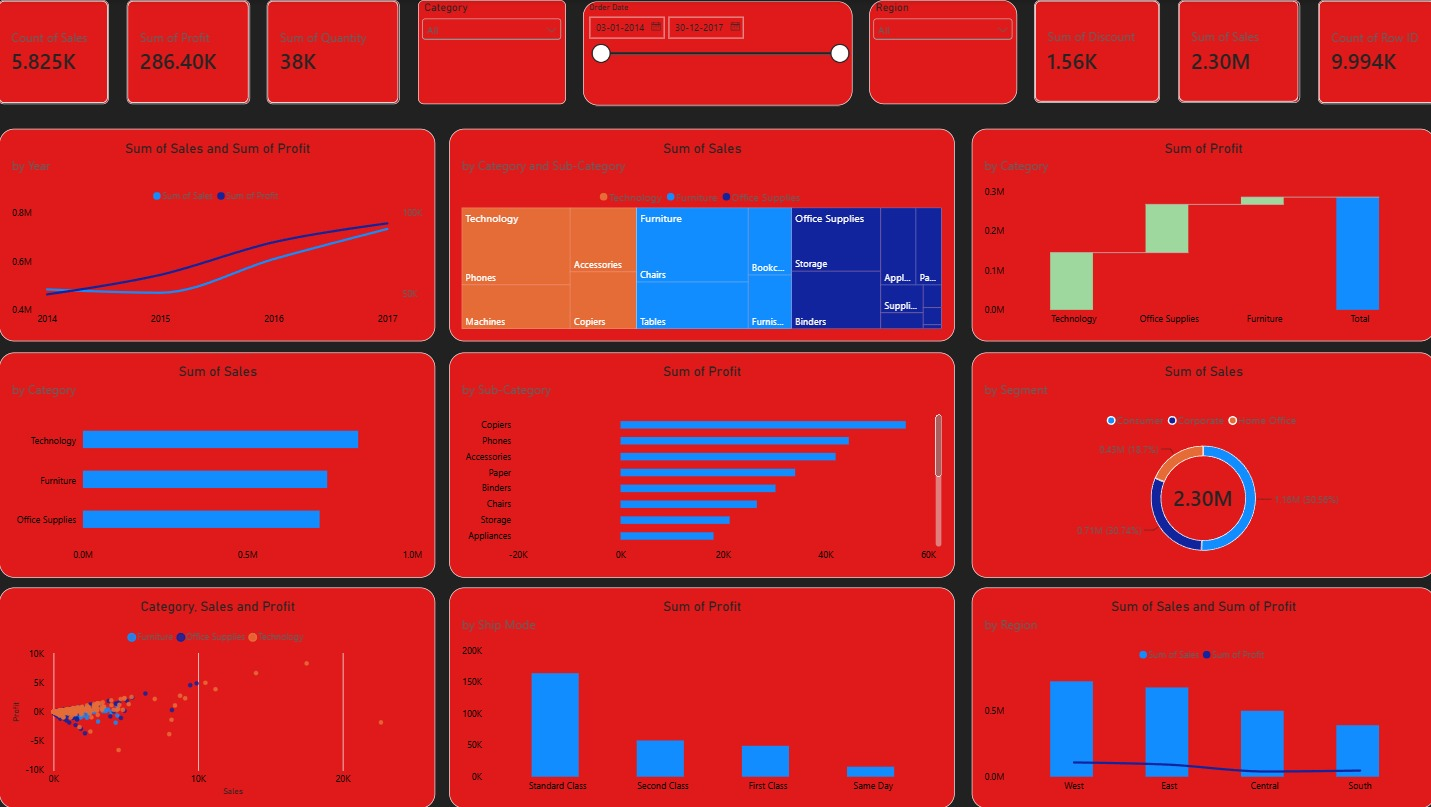

The page's visual inventory and layout, read from the dashboard file:
{"tool":"powerbi","page":{"name":"Page 1","canvas":[1920,1080],"ordinal":0},"visuals":[{"type":"cardVisual","fields":{"Data":["Count(Cleaned_Superstore.Sales)"]},"box":[0,0,148.4,139.3],"z":0},{"type":"cardVisual","fields":{"Data":["Sum(Cleaned_Superstore.Profit)"]},"box":[171.7,0,164.7,139.3],"z":1000},{"type":"cardVisual","fields":{"Data":["Sum(Cleaned_Superstore.Quantity)"]},"box":[359.7,0,177.3,139.3],"z":2000},{"type":"cardVisual","fields":{"Data":["Sum(Cleaned_Superstore.Discount)"]},"box":[1384.8,0,168.3,137.5],"z":3000},{"type":"cardVisual","fields":{"Data":["Sum(Cleaned_Superstore.Sales)"]},"box":[1576.4,0,162.9,137.5],"z":4000},{"type":"cardVisual","fields":{"Data":["Count(Cleaned_Superstore.Row ID)"]},"box":[1762.6,0,157.4,139.3],"z":5000},{"type":"slicer","fields":{"Values":["Cleaned_Superstore.Category"]},"box":[560.3,0,197.3,139.3],"z":6000},{"type":"slicer","fields":{"Values":["Cleaned_Superstore.Region"]},"box":[1164.3,0,197.3,139.3],"z":7000},{"type":"slicer","fields":{"Values":["Cleaned_Superstore.Order Date"]},"box":[780.9,1.8,360.1,139.3],"z":8000},{"type":"lineChart","fields":{"Category":["Cleaned_Superstore.Order Date.Variation.Date Hierarchy.Year"],"Y":["Sum(Cleaned_Superstore.Sales)"],"Y2":["Sum(Cleaned_Superstore.Profit)"]},"box":[1.8,171.9,582.7,284.1],"z":9000},{"type":"treemap","fields":{"Details":["Cleaned_Superstore.Sub-Category"],"Group":["Cleaned_Superstore.Category"],"Values":["Sum(Cleaned_Superstore.Sales)"]},"box":[602.6,171.9,675,284.1],"z":10000},{"type":"waterfallChart","fields":{"Category":["Cleaned_Superstore.Category"],"Y":["Sum(Cleaned_Superstore.Profit)"]},"box":[1301.1,171.9,618.9,284.1],"z":11000},{"type":"clusteredBarChart","fields":{"Category":["Cleaned_Superstore.Category"],"Y":["Sum(Cleaned_Superstore.Sales)"]},"box":[1.8,470.5,582.7,300.4],"z":12000},{"type":"clusteredBarChart","fields":{"Category":["Cleaned_Superstore.Sub-Category"],"Y":["Sum(Cleaned_Superstore.Profit)"]},"box":[602.6,470.5,675,300.4],"z":13000},{"type":"donutChart","fields":{"Category":["Cleaned_Superstore.Segment"],"Y":["Sum(Cleaned_Superstore.Sales)"]},"box":[1301.1,470.5,618.9,300.4],"z":14000},{"type":"scatterChart","fields":{"Series":["Cleaned_Superstore.Category"],"X":["Cleaned_Superstore.Sales"],"Y":["Cleaned_Superstore.Profit"]},"box":[1.8,785.4,582.7,295],"z":15000},{"type":"clusteredColumnChart","fields":{"Category":["Cleaned_Superstore.Ship Mode"],"Y":["Sum(Cleaned_Superstore.Profit)"]},"box":[602.6,785.4,675,295],"z":15001},{"type":"lineClusteredColumnComboChart","fields":{"Category":["Cleaned_Superstore.Region"],"Y":["Sum(Cleaned_Superstore.Sales)"],"Y2":["Sum(Cleaned_Superstore.Profit)"]},"box":[1301.1,785.4,618.9,295],"z":15002}]}

Visuals, with their boxes in screenshot pixels (x1, y1, x2, y2), scaled from the page's 1920x1080 canvas onto the 1431x807 screenshot:
cardVisual - Count(Cleaned_Superstore.Sales): x1=0 y1=0 x2=111 y2=104
cardVisual - Sum(Cleaned_Superstore.Profit): x1=128 y1=0 x2=251 y2=104
cardVisual - Sum(Cleaned_Superstore.Quantity): x1=268 y1=0 x2=400 y2=104
cardVisual - Sum(Cleaned_Superstore.Discount): x1=1032 y1=0 x2=1158 y2=103
cardVisual - Sum(Cleaned_Superstore.Sales): x1=1175 y1=0 x2=1296 y2=103
cardVisual - Count(Cleaned_Superstore.Row ID): x1=1314 y1=0 x2=1430 y2=104
slicer - Cleaned_Superstore.Category: x1=418 y1=0 x2=565 y2=104
slicer - Cleaned_Superstore.Region: x1=868 y1=0 x2=1015 y2=104
slicer - Cleaned_Superstore.Order Date: x1=582 y1=1 x2=850 y2=105
lineChart - Cleaned_Superstore.Order Date.Variation.Date Hierarchy.Year x Sum(Cleaned_Superstore.Sales): x1=1 y1=128 x2=436 y2=341
treemap - Cleaned_Superstore.Sub-Category x Cleaned_Superstore.Category: x1=449 y1=128 x2=952 y2=341
waterfallChart - Cleaned_Superstore.Category x Sum(Cleaned_Superstore.Profit): x1=970 y1=128 x2=1430 y2=341
clusteredBarChart - Cleaned_Superstore.Category x Sum(Cleaned_Superstore.Sales): x1=1 y1=352 x2=436 y2=576
clusteredBarChart - Cleaned_Superstore.Sub-Category x Sum(Cleaned_Superstore.Profit): x1=449 y1=352 x2=952 y2=576
donutChart - Cleaned_Superstore.Segment x Sum(Cleaned_Superstore.Sales): x1=970 y1=352 x2=1430 y2=576
scatterChart - Cleaned_Superstore.Category x Cleaned_Superstore.Sales: x1=1 y1=587 x2=436 y2=806
clusteredColumnChart - Cleaned_Superstore.Ship Mode x Sum(Cleaned_Superstore.Profit): x1=449 y1=587 x2=952 y2=806
lineClusteredColumnComboChart - Cleaned_Superstore.Region x Sum(Cleaned_Superstore.Sales): x1=970 y1=587 x2=1430 y2=806
